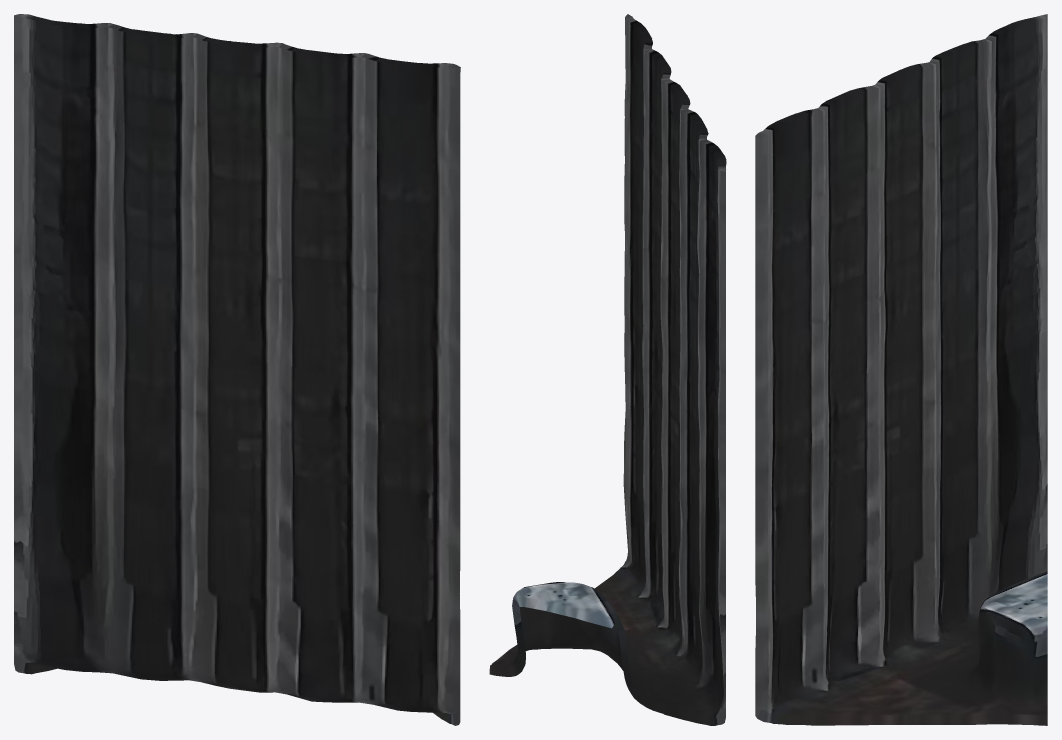
Rendered from z20-167779-405233-h0-yup-uvflip-v3-world.glb.
The picture shows the model from 3 angles, left to right: view 1: azimuth 30°, elevation 25°; view 2: azimuth 150°, elevation 25°; view 3: azimuth 270°, elevation 25°; orthographic projection. The views are drawn at different scales.
Size of the model in its own units: 16.84 by 38.04 by 17.08.
1 material, 1 textured.
